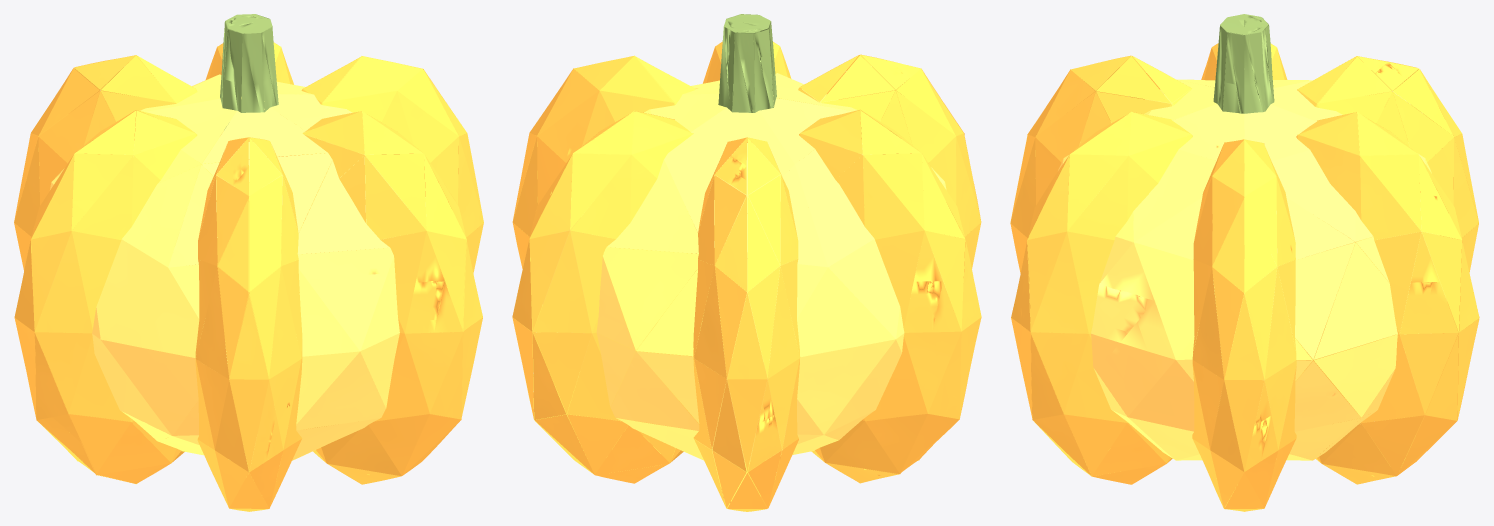
The model's file is halloween_mini_pumpkin.glb.
3 views of the same model, side by side, from view 1: azimuth 30°, elevation 25°; view 2: azimuth 150°, elevation 25°; view 3: azimuth 270°, elevation 25° (orthographic).
Visible parts, largest first — view 1: MiniPumpkin; view 2: MiniPumpkin; view 3: MiniPumpkin.
Part boxes in pixels (x1=…): MiniPumpkin: x1=14, y1=14, x2=483, y2=511; MiniPumpkin: x1=512, y1=14, x2=981, y2=511; MiniPumpkin: x1=1010, y1=14, x2=1479, y2=511.
Bounding box in the file's own units: 1.38 × 1.27 × 1.25.
